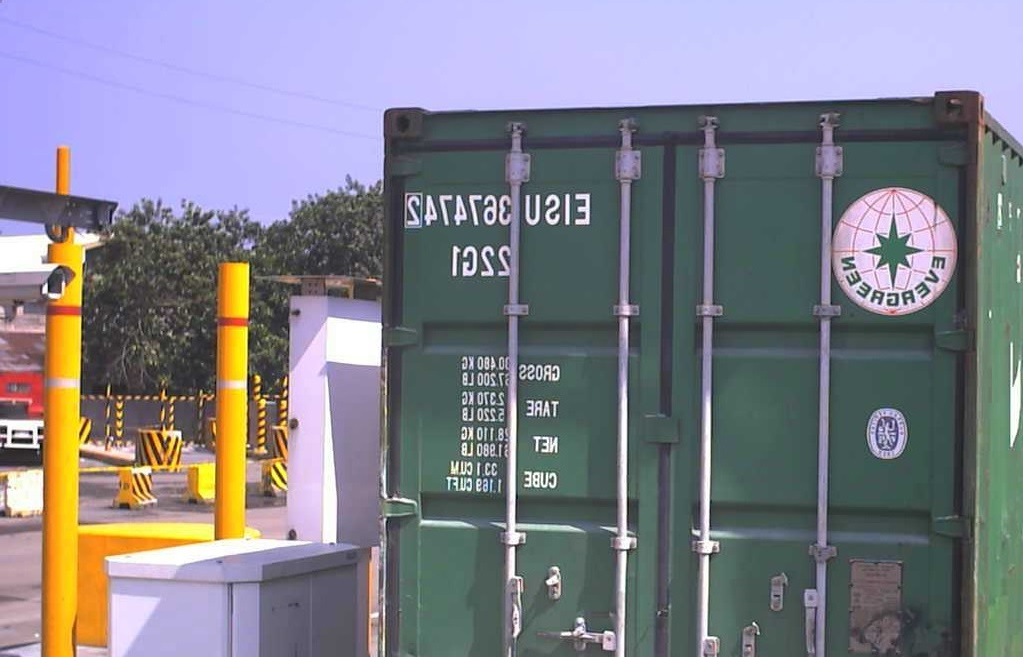container_no_door: (383, 89, 976, 656)
